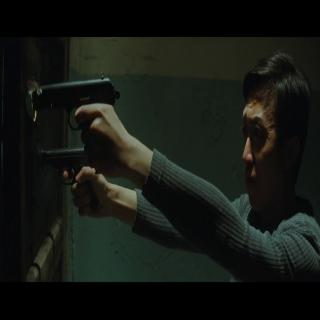gun: (26, 69, 120, 174), (35, 138, 101, 212)
